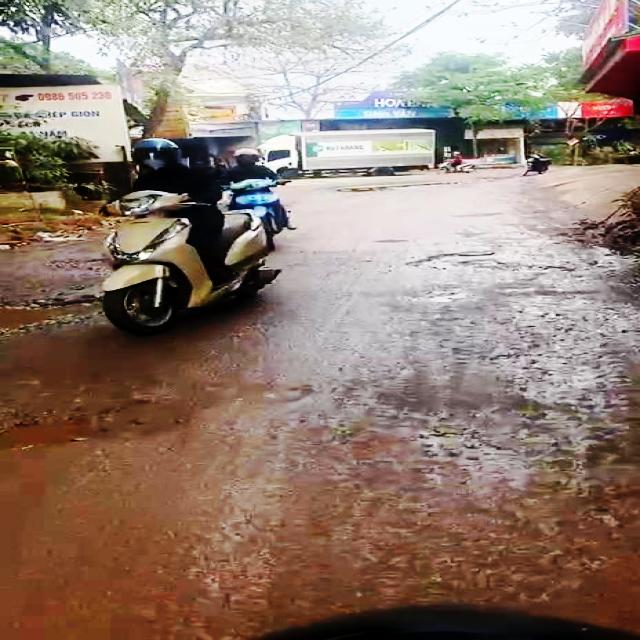pothole: (0, 381, 268, 453), (408, 246, 589, 276), (0, 289, 110, 334)
